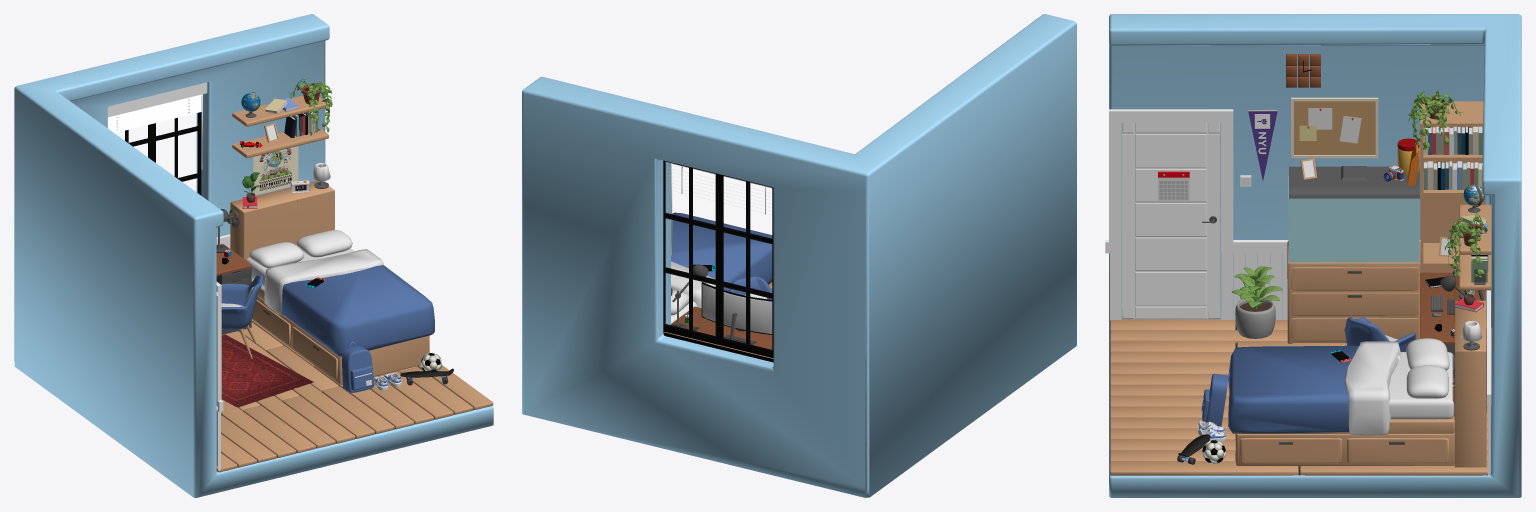
File: clean-room-model.glb
The picture shows the model from 3 angles, left to right: view 1: azimuth 30°, elevation 25°; view 2: azimuth 150°, elevation 25°; view 3: azimuth 270°, elevation 25°; orthographic projection. The views are drawn at different scales.
Visible parts, largest first — view 1: Walls.001, Plane.012, Pillow.001, Cube.054, Plane, Chair, Plane.006, Blinds, Handle, Window Pane, Shelf.001, Window Blinds Housing (+5 smaller); view 2: Walls.001, Window Pane, Pillow.001, Monitor, Table Top.001; view 3: Walls.001, Plane.012, Pillow.001, Door, Cube.054, Cube.061, Aquarium Glass.001, Wall Trim.001, Bookshelf, Bulletin Board, Aquarium Lid, Wall Trim (+19 smaller).
Boxes of the visible parts, x1,y1,x2,y2 form: Walls.001: (14,14,493,497); Plane.012: (216,319,493,472); Pillow.001: (246,230,434,356); Cube.054: (230,181,433,384); Plane: (221,334,313,407); Chair: (221,275,263,358); Plane.006: (253,146,298,195); Blinds: (108,94,201,132); Handle: (341,341,374,392); Window Pane: (125,112,201,195); Shelf.001: (232,127,328,158); Window Blinds Housing: (108,82,207,117); Walls.001: (522,14,1076,497); Window Pane: (663,160,773,362); Pillow.001: (671,212,772,323); Monitor: (701,282,772,334); Table Top.001: (687,315,772,345); Walls.001: (1109,14,1521,497); Plane.012: (1110,319,1488,475); Pillow.001: (1228,338,1454,435); Door: (1122,123,1220,318); Cube.054: (1232,300,1486,467); Cube.061: (1287,241,1420,343); Aquarium Glass.001: (1288,176,1419,262); Wall Trim.001: (1105,109,1491,405); Bookshelf: (1420,101,1485,272); Bulletin Board: (1291,97,1378,158); Aquarium Lid: (1289,166,1419,198); Wall Trim: (1221,253,1490,472).
Bounding box in the file's own units: 3.63 × 3.22 × 3.81.
Materials: 116 (8 with a texture image).
